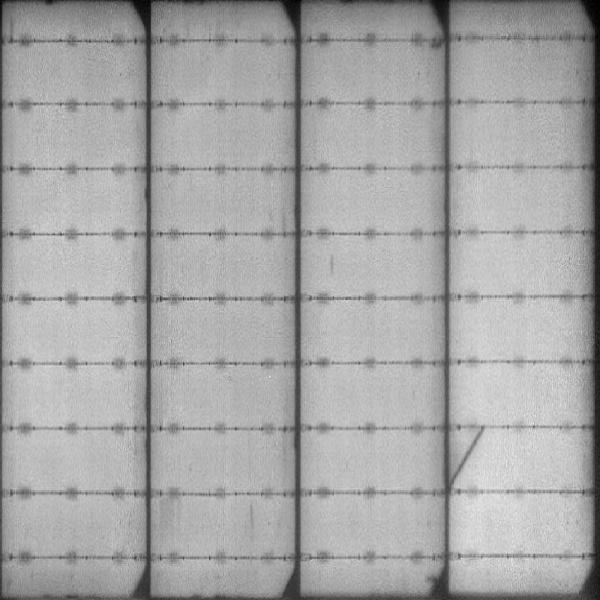scratch: (448, 428, 481, 490)
